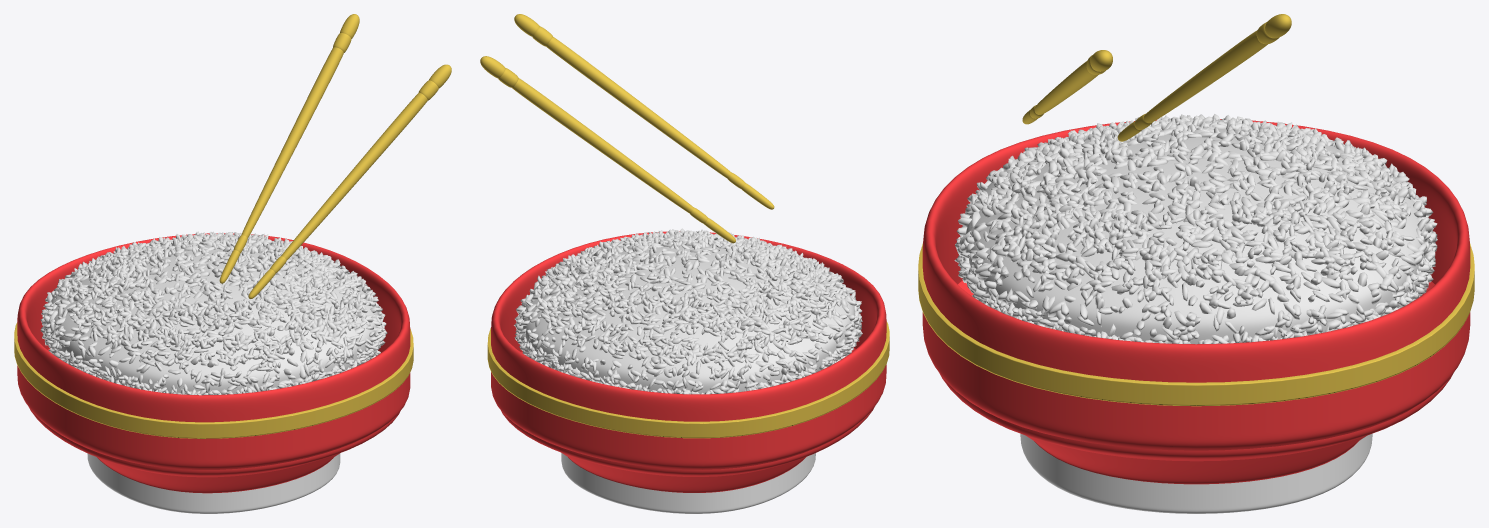
The model's file is rice-bowl-3d-animated-icon-976487503704.glb.
The picture shows the model from 3 angles, left to right: view 1: azimuth 30°, elevation 25°; view 2: azimuth 150°, elevation 25°; view 3: azimuth 270°, elevation 25°; orthographic projection. The views are drawn at different scales.
Parts seen in each view (by area): view 1: Cube, Cube.006, Cube.001, Cube.003, Cube.004, Cube.005; view 2: Cube, Cube.006, Cube.001, Cube.003, Cube.004, Cube.005; view 3: Cube, Cube.006, Cube.001, Cube.003, Cube.005, Cube.004.
Part boxes in pixels (bbox=[...]): Cube: bbox=[17, 233, 410, 513]; Cube.006: bbox=[40, 231, 387, 395]; Cube.001: bbox=[50, 240, 378, 394]; Cube.003: bbox=[14, 322, 413, 438]; Cube.004: bbox=[248, 64, 451, 298]; Cube.005: bbox=[219, 14, 359, 283]; Cube: bbox=[491, 231, 886, 513]; Cube.006: bbox=[514, 228, 862, 394]; Cube.001: bbox=[522, 239, 855, 394]; Cube.003: bbox=[487, 321, 889, 438]; Cube.004: bbox=[514, 14, 774, 209]; Cube.005: bbox=[480, 56, 735, 243]; Cube: bbox=[922, 119, 1470, 513]; Cube.006: bbox=[954, 114, 1437, 343]; Cube.001: bbox=[966, 128, 1426, 344]; Cube.003: bbox=[918, 243, 1474, 406]; Cube.005: bbox=[1117, 14, 1291, 141]; Cube.004: bbox=[1022, 50, 1112, 124].
Bounding box in the file's own units: 6.15 × 6.08 × 5.57.
